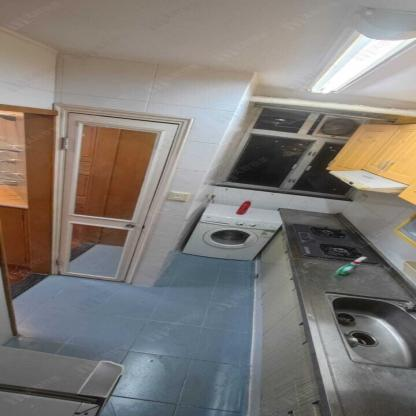Cupboard: (328, 123, 415, 206)
Exhaust Hood: (331, 169, 408, 194)
Sink: (328, 294, 412, 368)
Stove: (290, 223, 379, 263)
Washing Machine: (179, 202, 282, 261)
